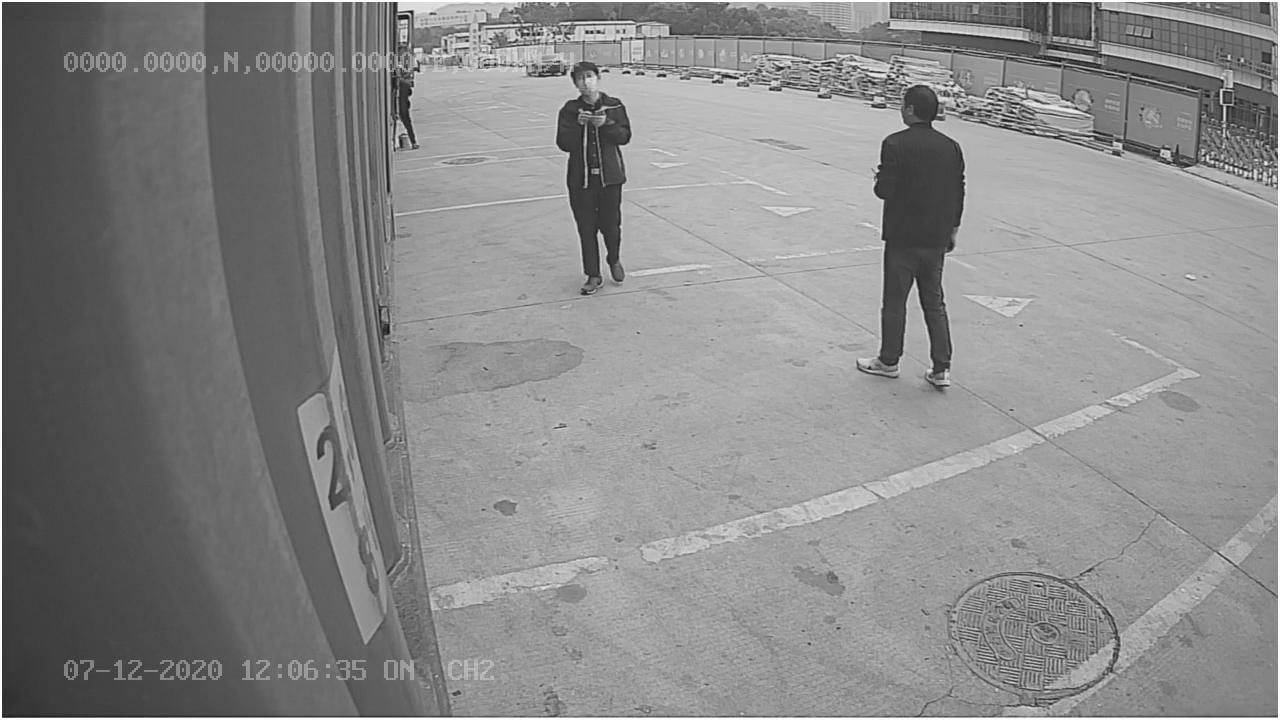person: (854, 79, 967, 393), (550, 60, 636, 297)
